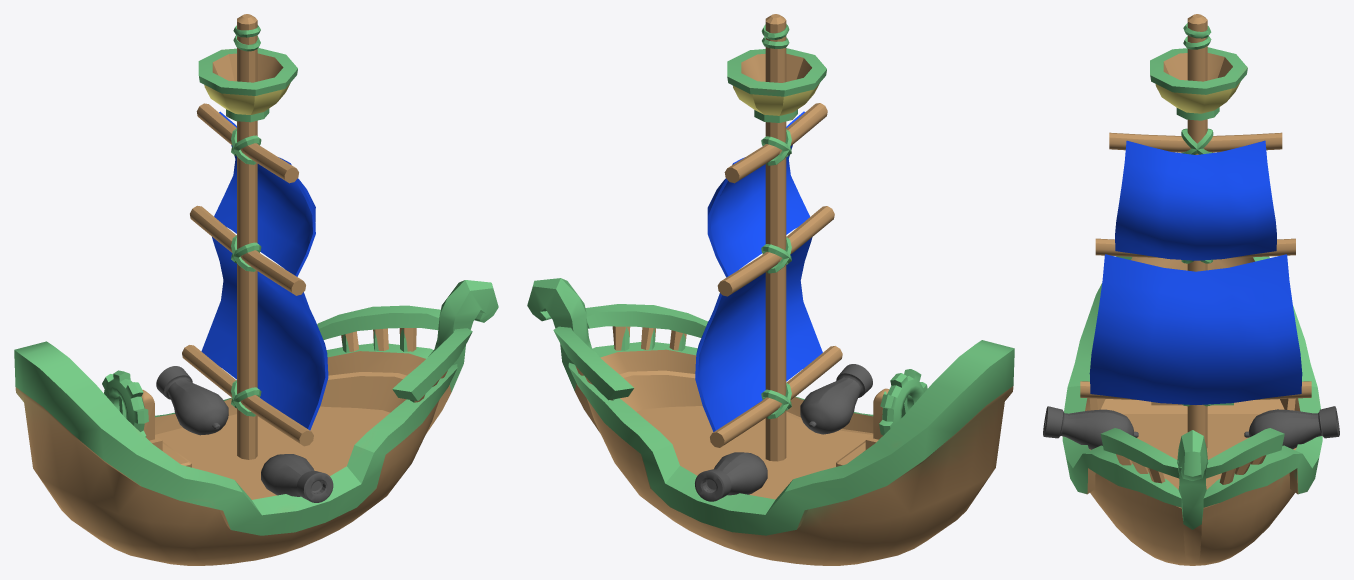
File: nave base finale.fbx
3 views of the same model, side by side, from view 1: azimuth 30°, elevation 25°; view 2: azimuth 150°, elevation 25°; view 3: azimuth 270°, elevation 25° (orthographic). The views are drawn at different scales.
Parts seen in each view (by area): view 1: nave nemica.006; view 2: nave nemica.006; view 3: nave nemica.006.
Part boxes in pixels (x1,y1,x2,y2): nave nemica.006: (14, 14, 498, 565); nave nemica.006: (527, 14, 1014, 565); nave nemica.006: (1043, 14, 1339, 565).
Size of the model in its own units: 1433 by 1516 by 788.
